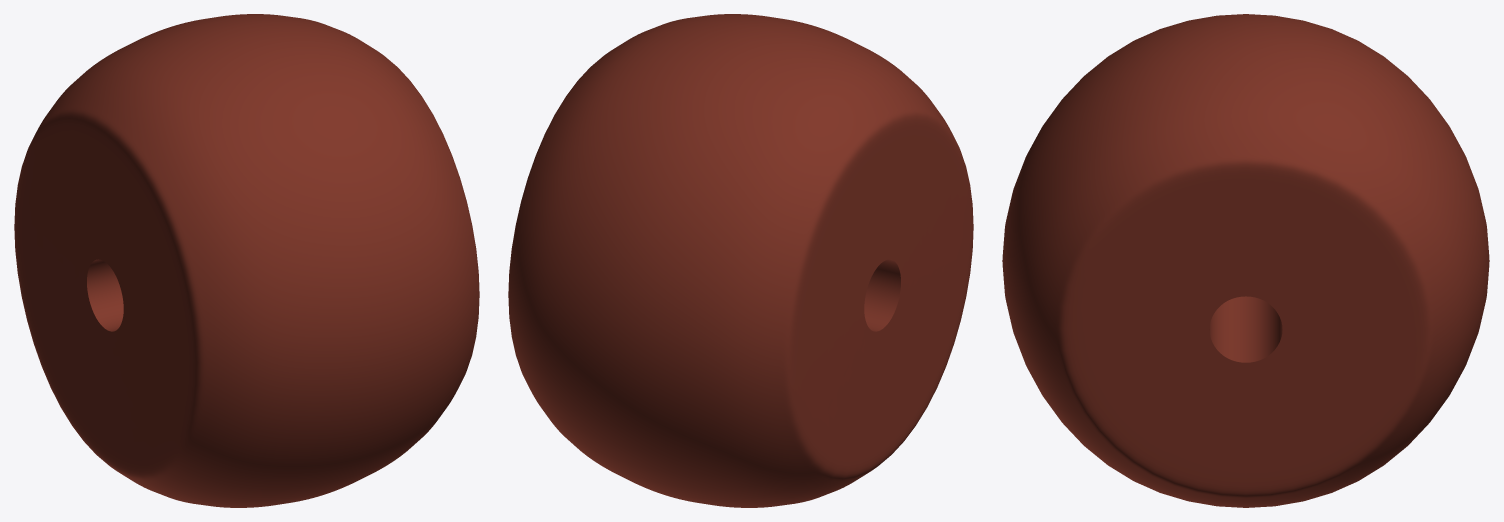
The model's file is 红药片.glb.
The picture shows the model from 3 angles, left to right: view 1: azimuth 30°, elevation 25°; view 2: azimuth 150°, elevation 25°; view 3: azimuth 270°, elevation 25°; orthographic projection.
Parts seen in each view (by area): view 1: JewelCAD; view 2: JewelCAD; view 3: JewelCAD.
Part boxes in pixels (left/top/right/bottom): JewelCAD: left=14, top=14, right=479, bottom=507; JewelCAD: left=508, top=14, right=973, bottom=507; JewelCAD: left=1002, top=14, right=1489, bottom=507.
Size of the model in its own units: 0.004 by 0.006 by 0.006.
